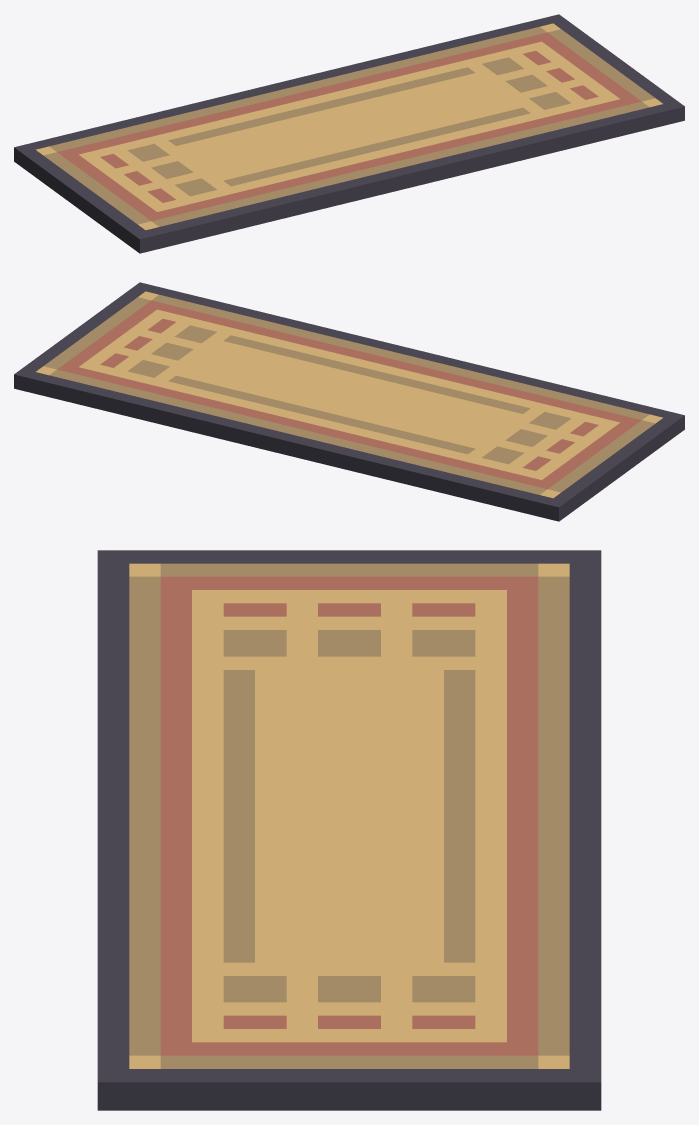
File: Teppich.fbx
3 views of the same model, one above another, from view 1: azimuth 30°, elevation 25°; view 2: azimuth 150°, elevation 25°; view 3: azimuth 270°, elevation 25° (orthographic). The views are drawn at different scales.
Parts seen in each view (by area): view 1: Teppich; view 2: Teppich; view 3: Teppich.
Boxes of the visible parts, x1,y1,x2,y2 form: Teppich: (14,14,684,253); Teppich: (14,282,684,521); Teppich: (97,550,601,1110).
Bounding box in the file's own units: 250 × 6.25 × 100.
